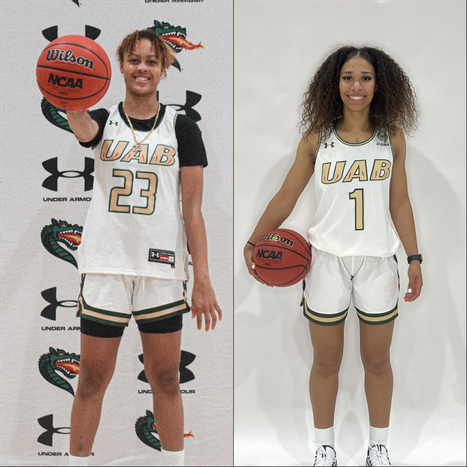b_ball: (35, 37, 113, 116), (243, 223, 313, 289)
face: (117, 31, 179, 104), (332, 53, 390, 122)
player: (23, 9, 222, 460), (243, 37, 433, 467)
